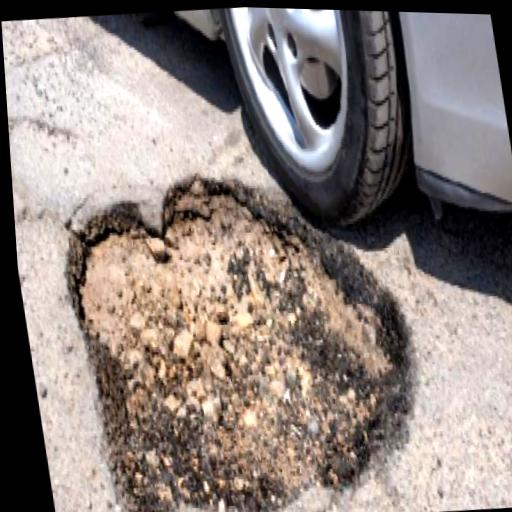pothole: (47, 152, 438, 512)
